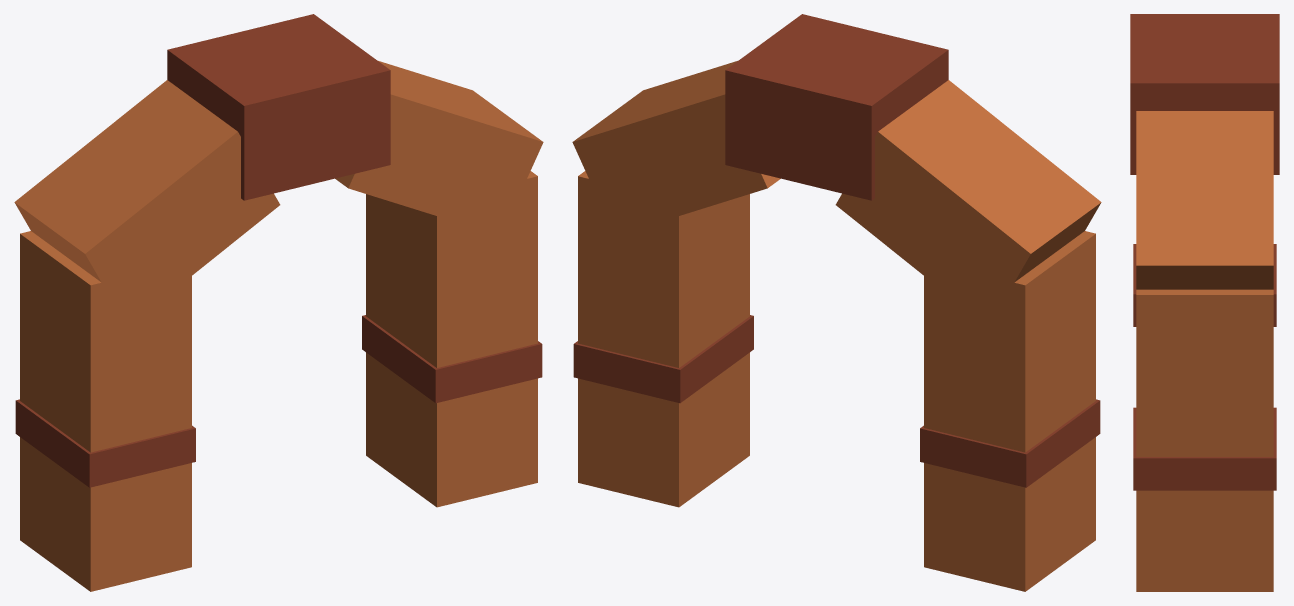
Rendered from desierto_arco.obj.
3 renders of one model, left to right at view 1: azimuth 30°, elevation 25°; view 2: azimuth 150°, elevation 25°; view 3: azimuth 270°, elevation 25°, orthographic. The views are drawn at different scales.
Visible parts, largest first — view 1: desierto_arco; view 2: desierto_arco; view 3: desierto_arco.
Boxes of the visible parts, left/top/right/bottom form: desierto_arco: left=14, top=14, right=543, bottom=591; desierto_arco: left=572, top=14, right=1101, bottom=591; desierto_arco: left=1130, top=14, right=1279, bottom=591.
Bounding box in the file's own units: 1.72 × 1.62 × 0.5.
